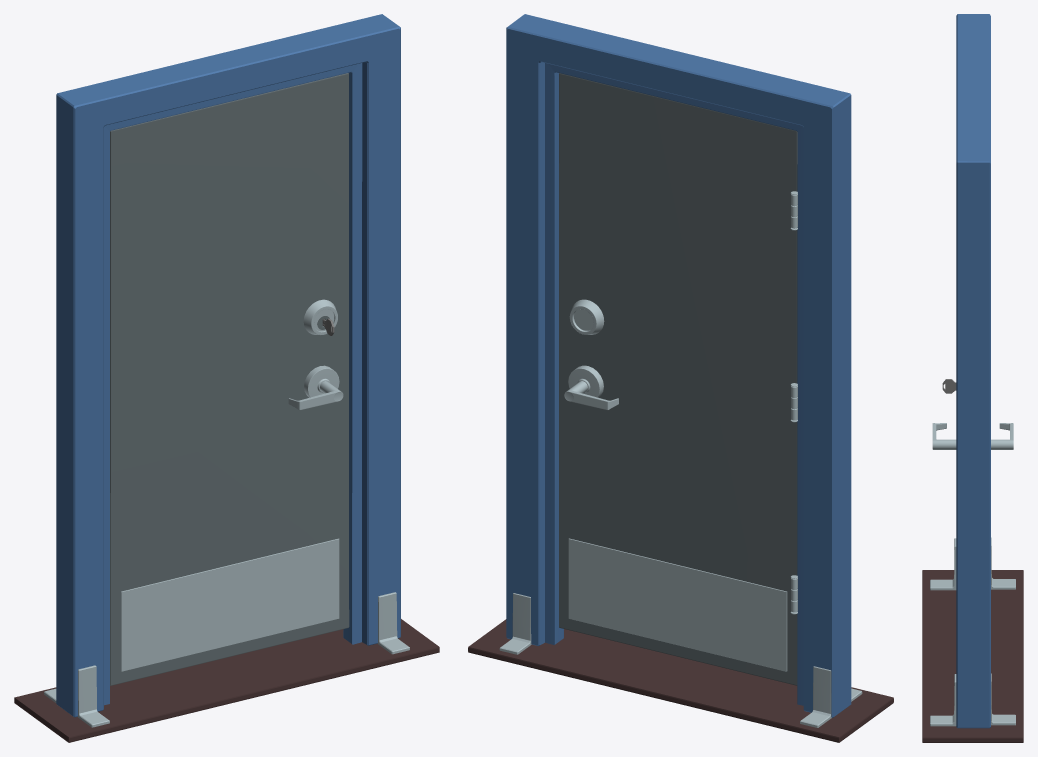
File: DoorLocked Visuals.fbx
3 renders of one model, left to right at view 1: azimuth 30°, elevation 25°; view 2: azimuth 150°, elevation 25°; view 3: azimuth 270°, elevation 25°, orthographic. The views are drawn at different scales.
Parts seen in each view (by area): view 1: DoorLocked, DoorLocedFrame, DoorHandle; view 2: DoorLocked, DoorLocedFrame, DoorHandle; view 3: DoorLocedFrame, DoorHandle.
Part boxes in pixels (bbox=[...]): DoorLocked: bbox=[110, 73, 349, 685]; DoorLocedFrame: bbox=[14, 14, 439, 742]; DoorHandle: bbox=[288, 381, 343, 410]; DoorLocked: bbox=[559, 73, 797, 685]; DoorLocedFrame: bbox=[468, 14, 893, 742]; DoorHandle: bbox=[564, 381, 618, 410]; DoorLocedFrame: bbox=[922, 14, 1023, 742]; DoorHandle: bbox=[932, 423, 1013, 449].
Bounding box in the file's own units: 142 × 226 × 36.24.
